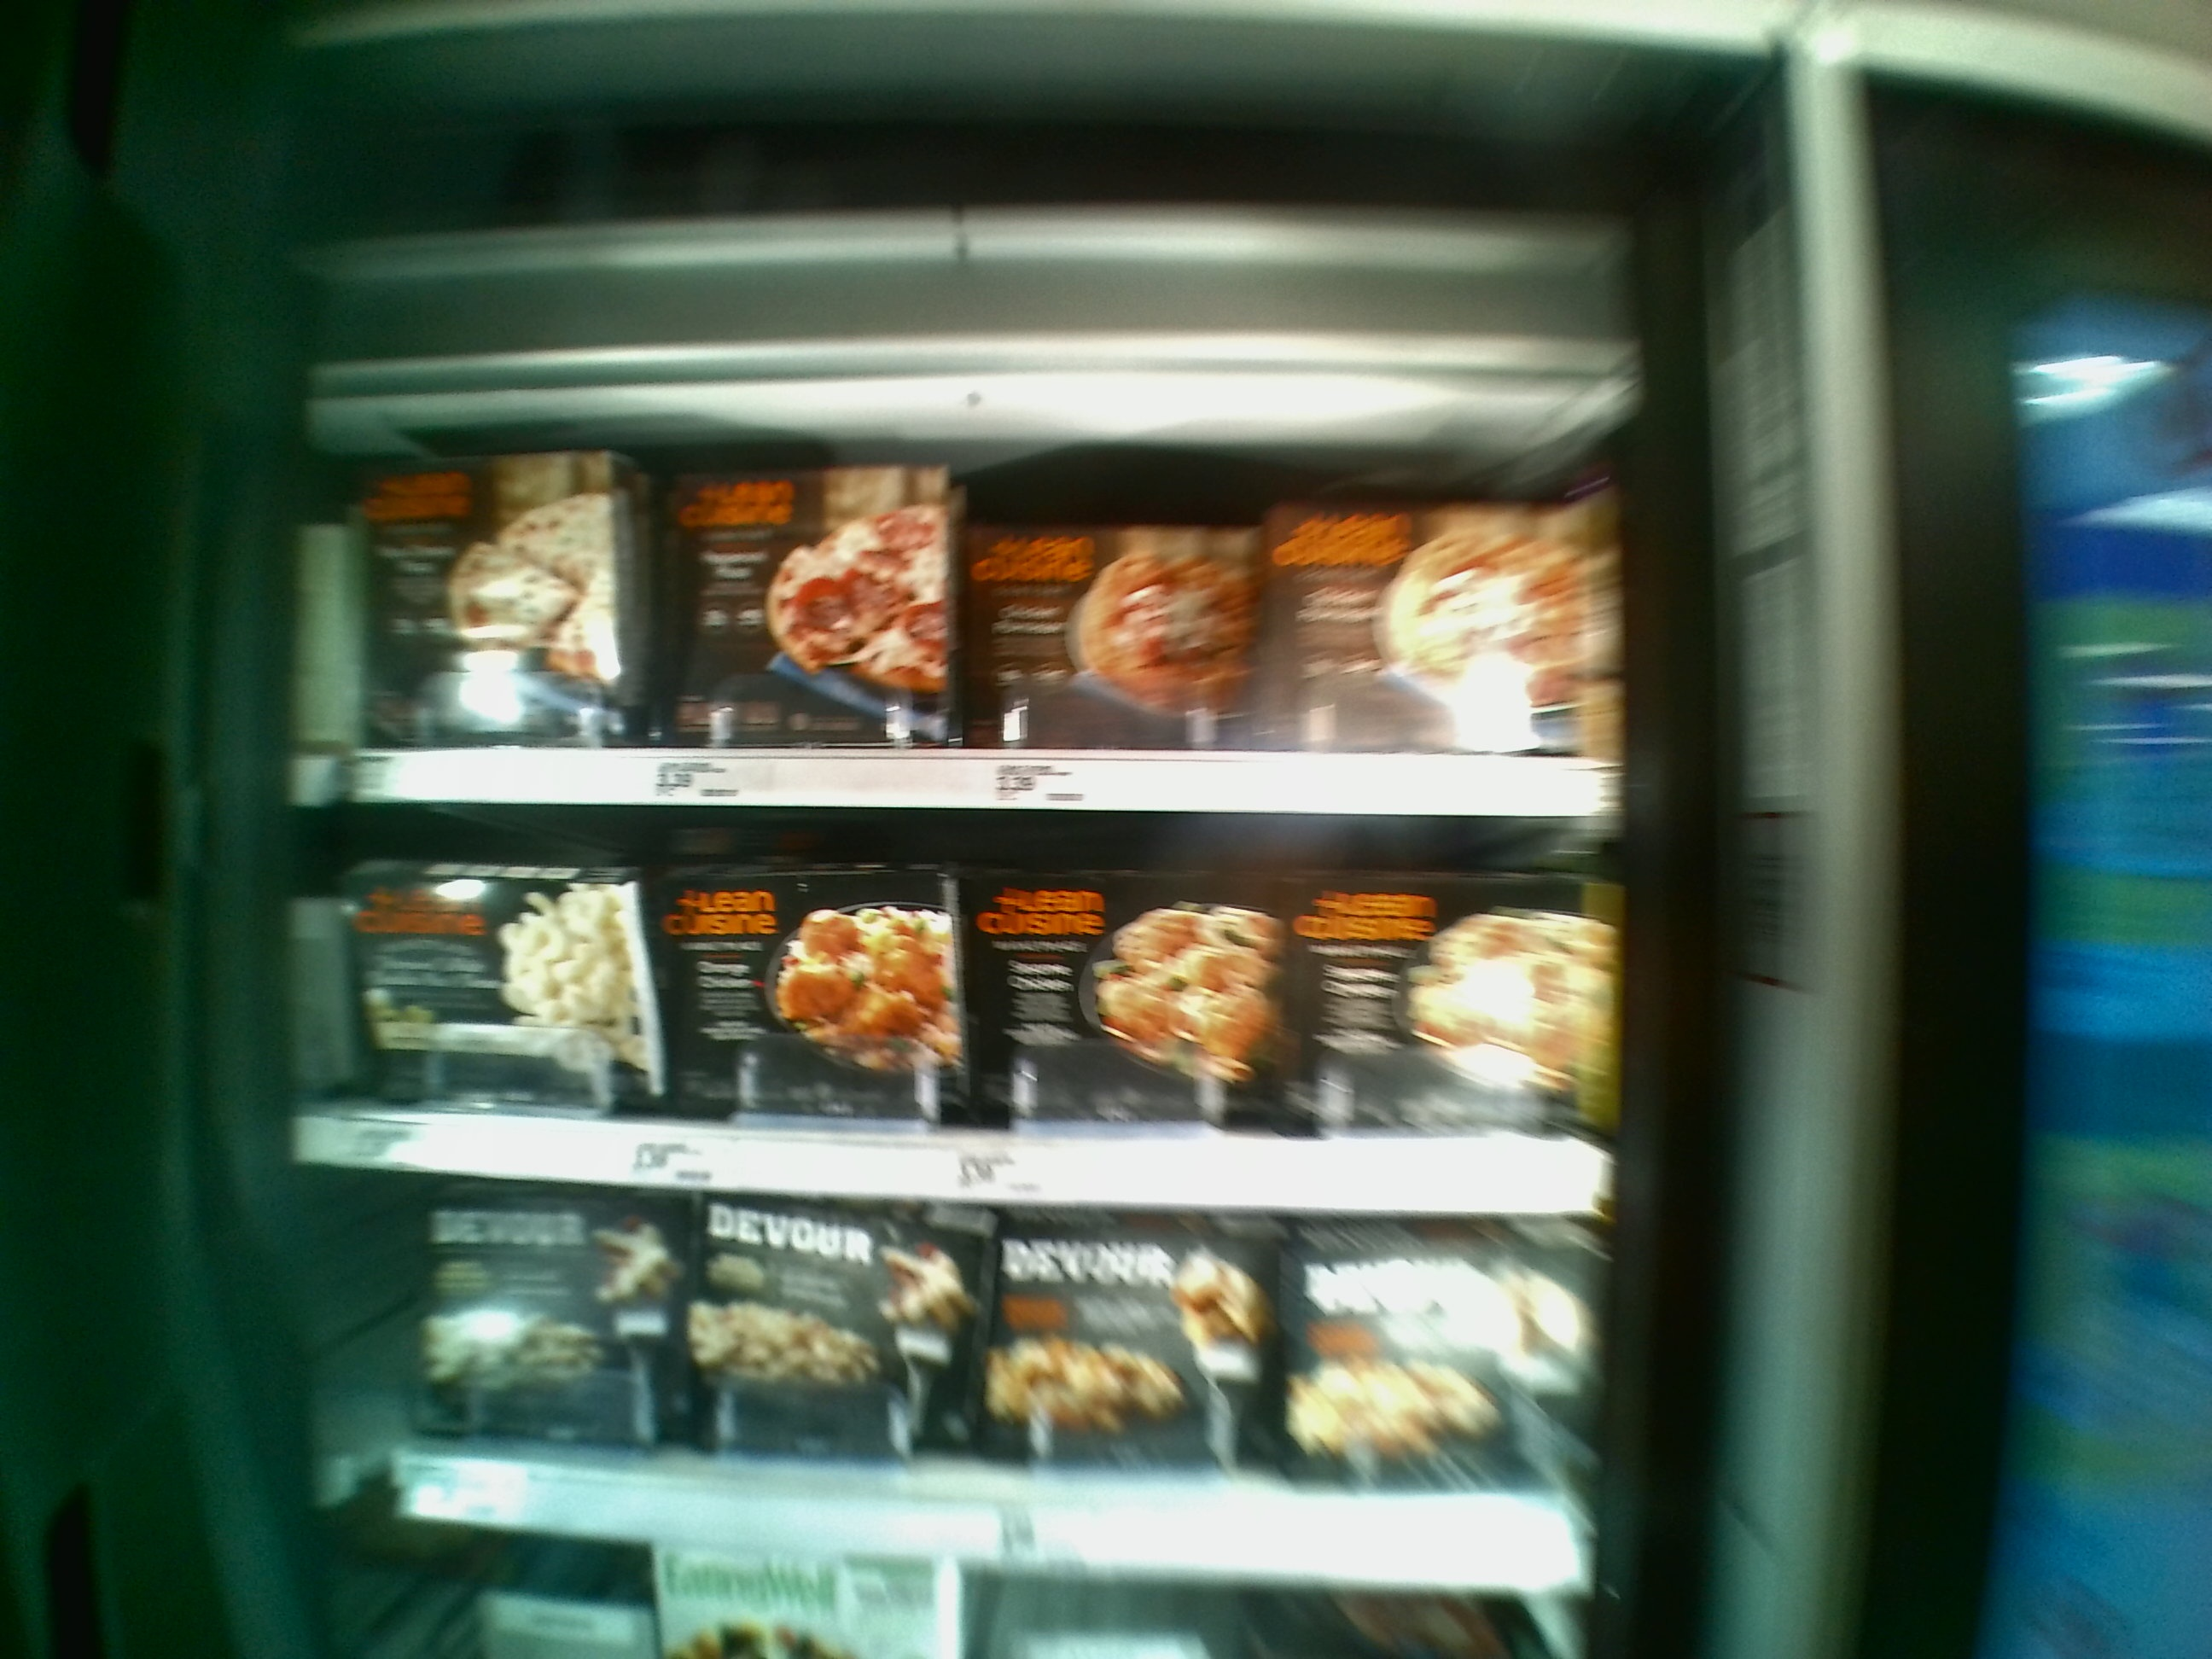shelf: (307, 362, 1615, 817), (289, 796, 1611, 1223)
